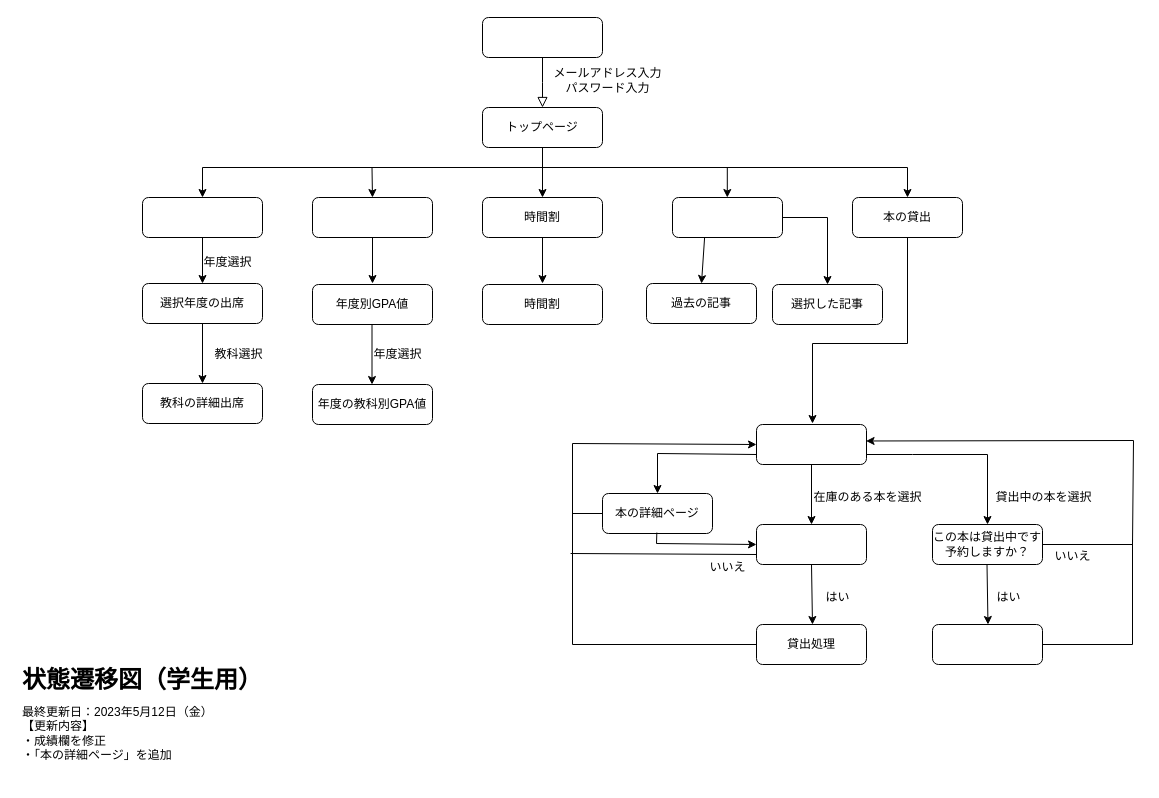
Image size: 1159x798. Some labels were removed from this diagram. Each missing label, with the centre of its shape:
"ログイン" goes at pixel 542 37.
"予約処理" goes at pixel 987 644.
"借りますか？" goes at pixel 811 544.
"出席" goes at pixel 202 217.
"成績" goes at pixel 372 217.
"更新情報" goes at pixel 727 217.
"本の一覧" goes at pixel 811 444.
